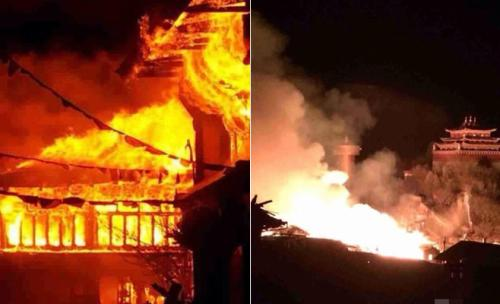fire: (138, 9, 250, 128), (66, 117, 184, 165)
yanwu: (292, 88, 462, 225)
